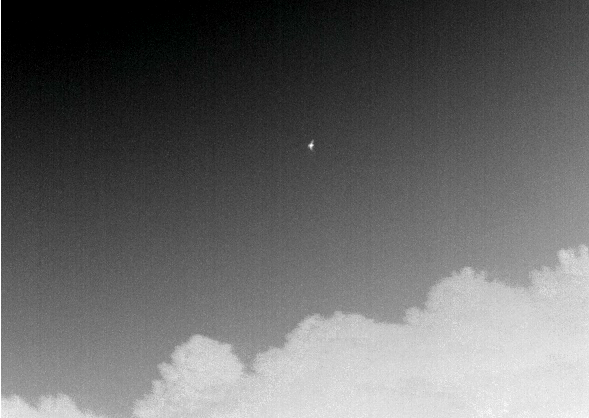dim target: (307, 139, 315, 151)
